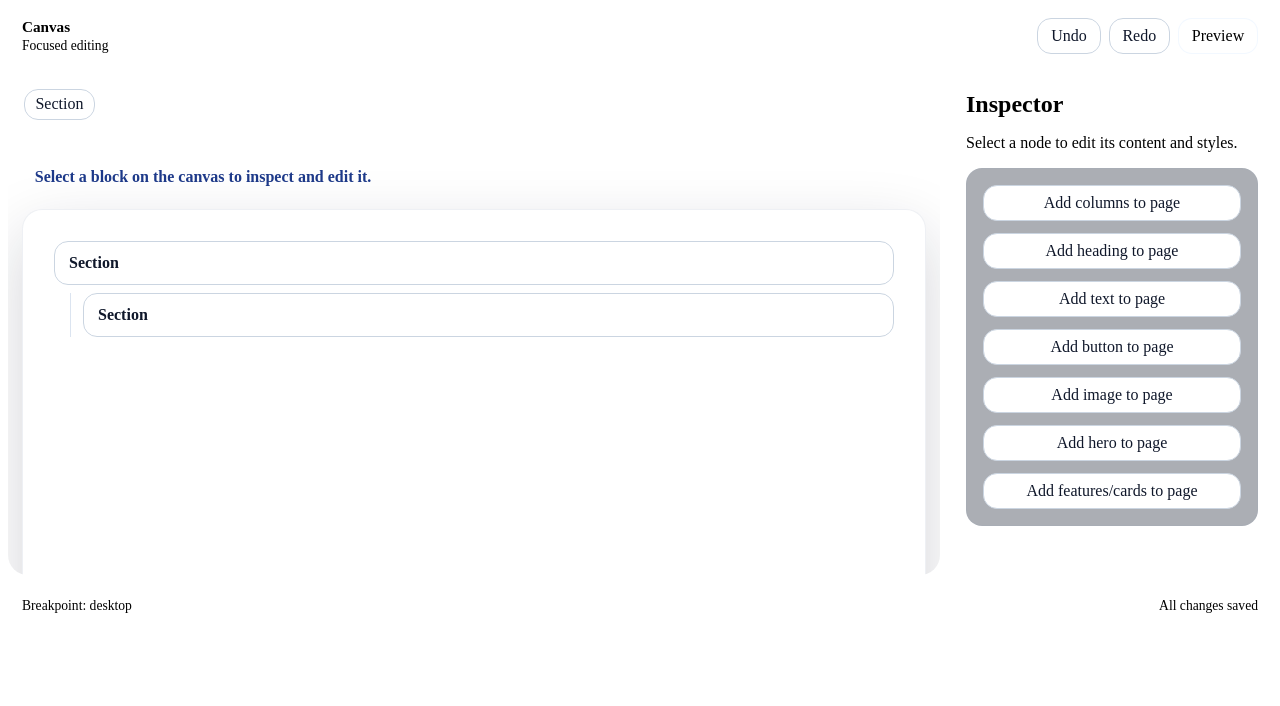
Test: editor shell flow › adds a new block inside a selected section and selects it for editing
Click the 3rd button "Section": click(123, 314) [83,293,894,337]
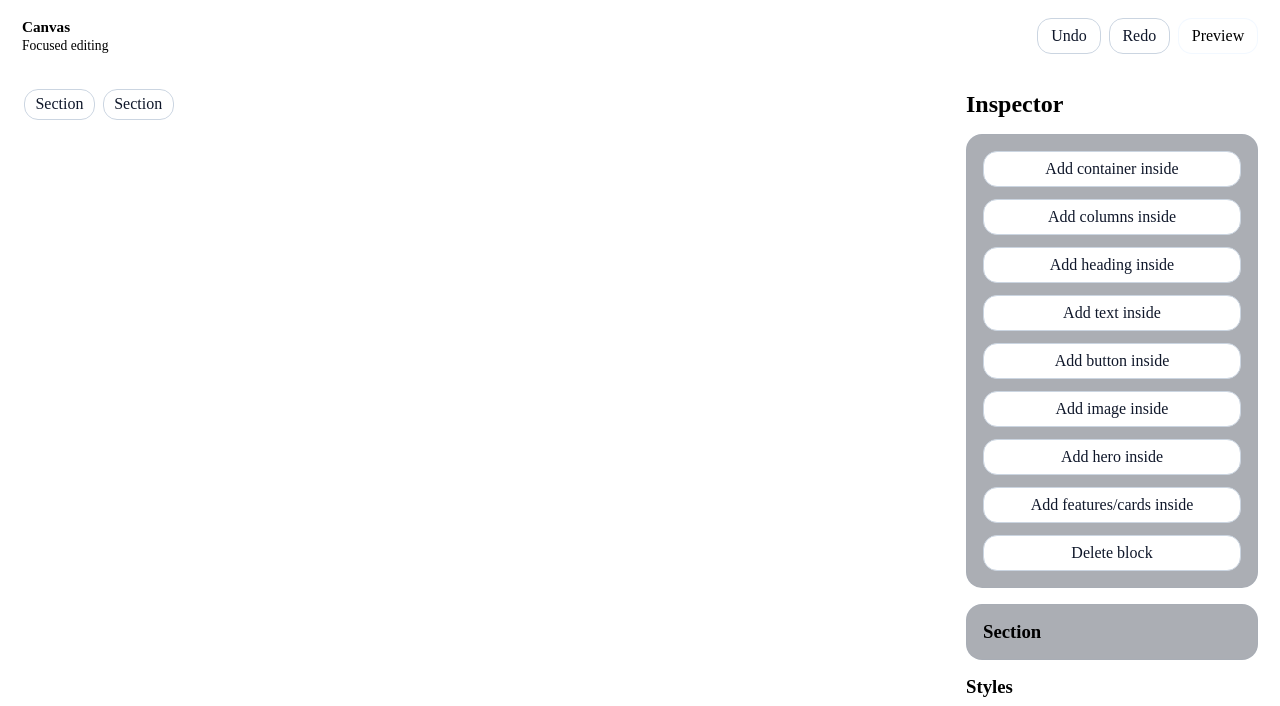
Click the button "Add heading inside": click(1112, 265) [983,247,1241,283]
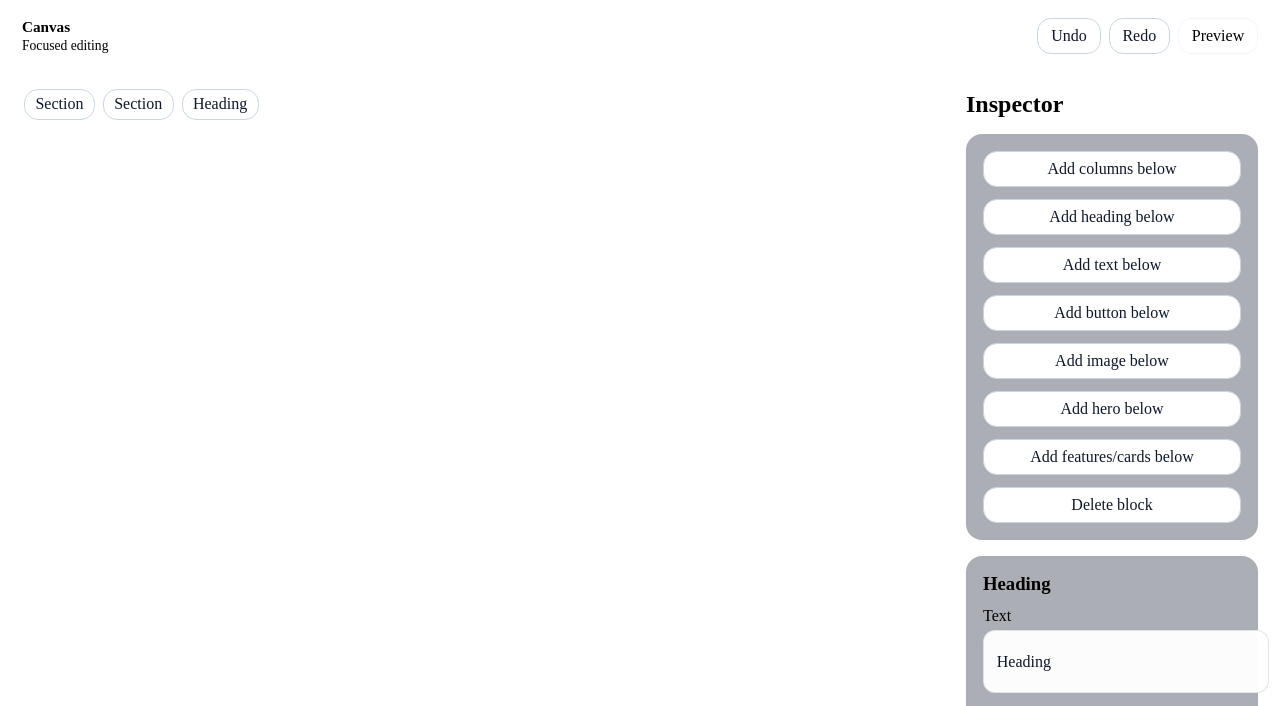
Expected: the field labelled "Text" holds "Heading", [983,630,1269,693]
